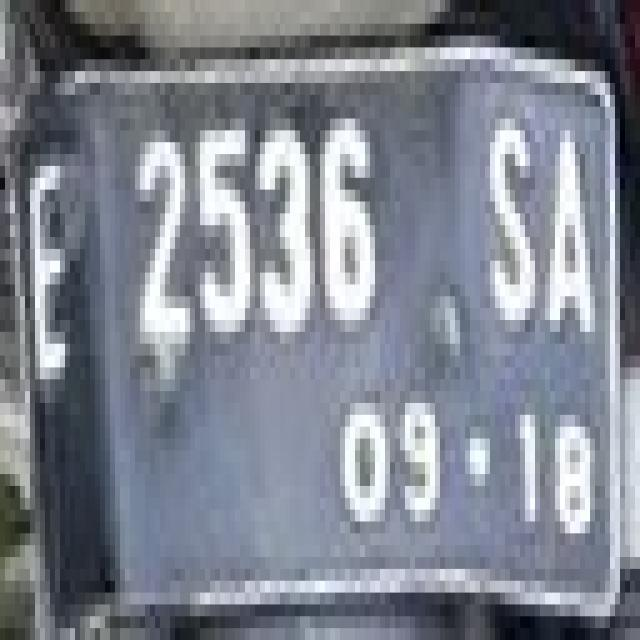plate: (2, 51, 632, 608)
